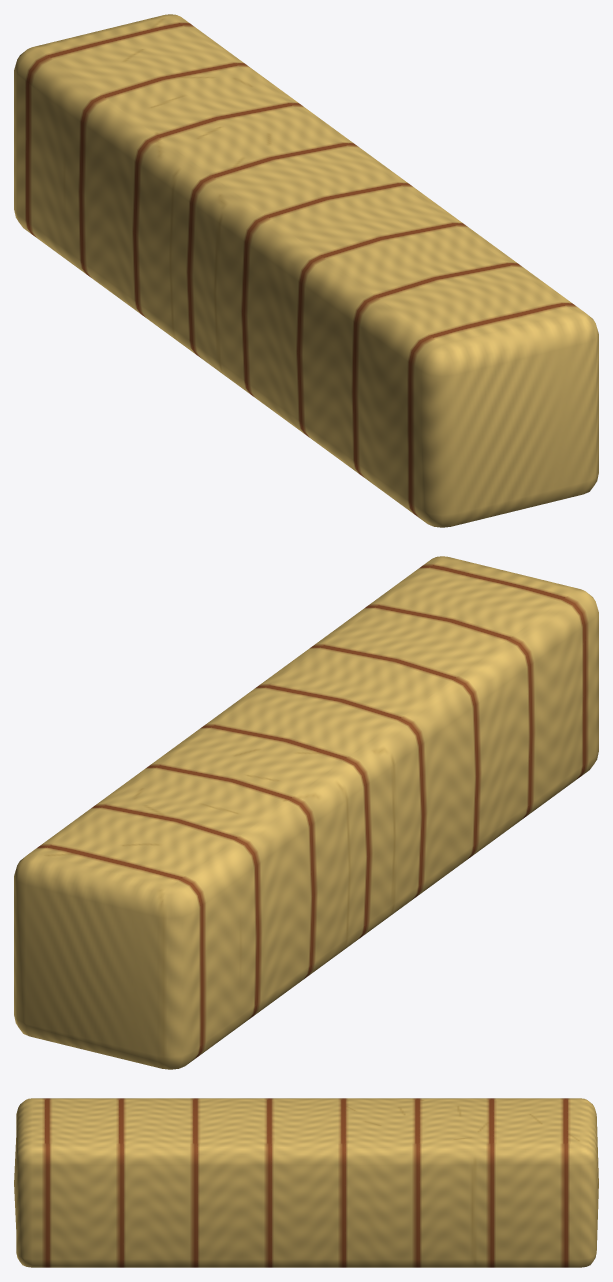
Rendered from HayBale_4x1.fbx.
3 views of the same model, one above another, from view 1: azimuth 30°, elevation 25°; view 2: azimuth 150°, elevation 25°; view 3: azimuth 270°, elevation 25° (orthographic). The views are drawn at different scales.
Parts seen in each view (by area): view 1: HayBale_4x1; view 2: HayBale_4x1; view 3: HayBale_4x1.
Part boxes in pixels (left/top/right/bottom): HayBale_4x1: left=14, top=14, right=598, bottom=527; HayBale_4x1: left=14, top=556, right=598, bottom=1069; HayBale_4x1: left=14, top=1098, right=598, bottom=1267.
Bounding box in the file's own units: 0.95 × 0.9071 × 3.95.
Materials: 1 (1 with a texture image).
